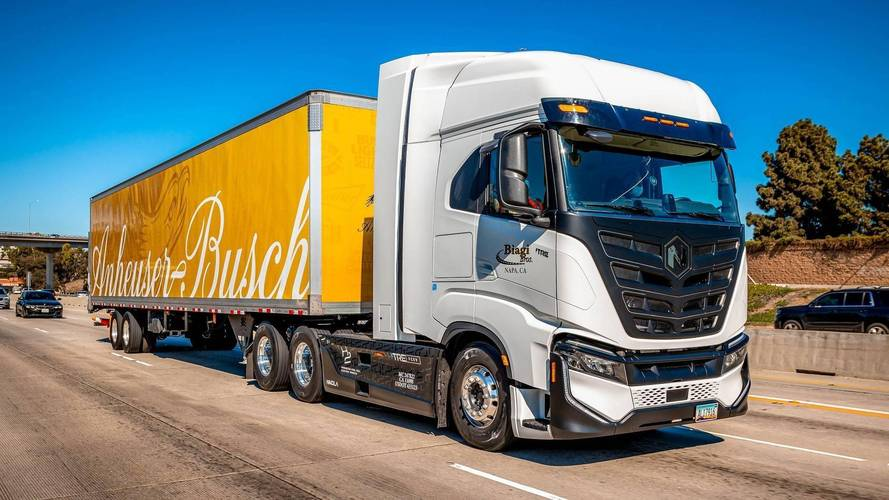卡车: (78, 30, 778, 459)
